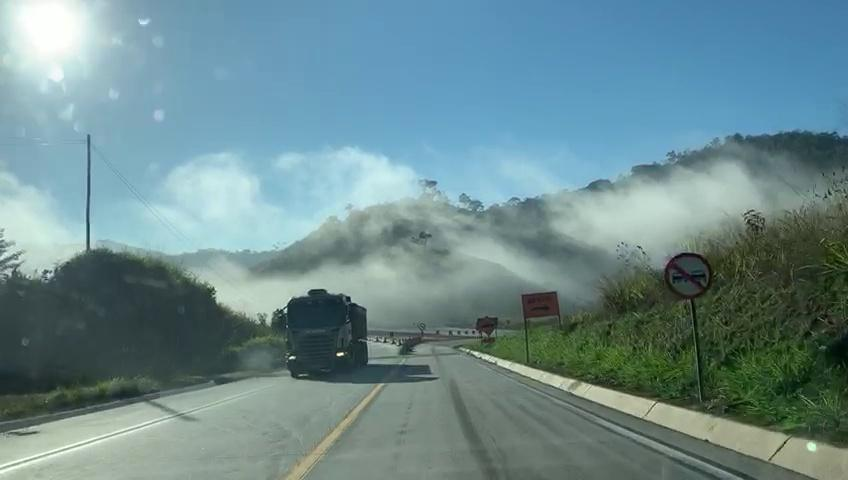smoke: (591, 188, 753, 235), (368, 270, 494, 326)
